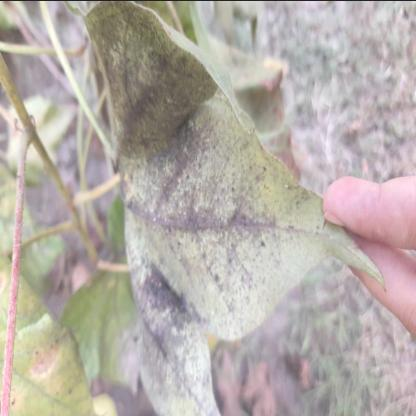curl_stage1: (15, 367, 90, 415), (77, 281, 115, 358)
sooty: (155, 126, 279, 296), (122, 26, 194, 194), (141, 246, 201, 386)
